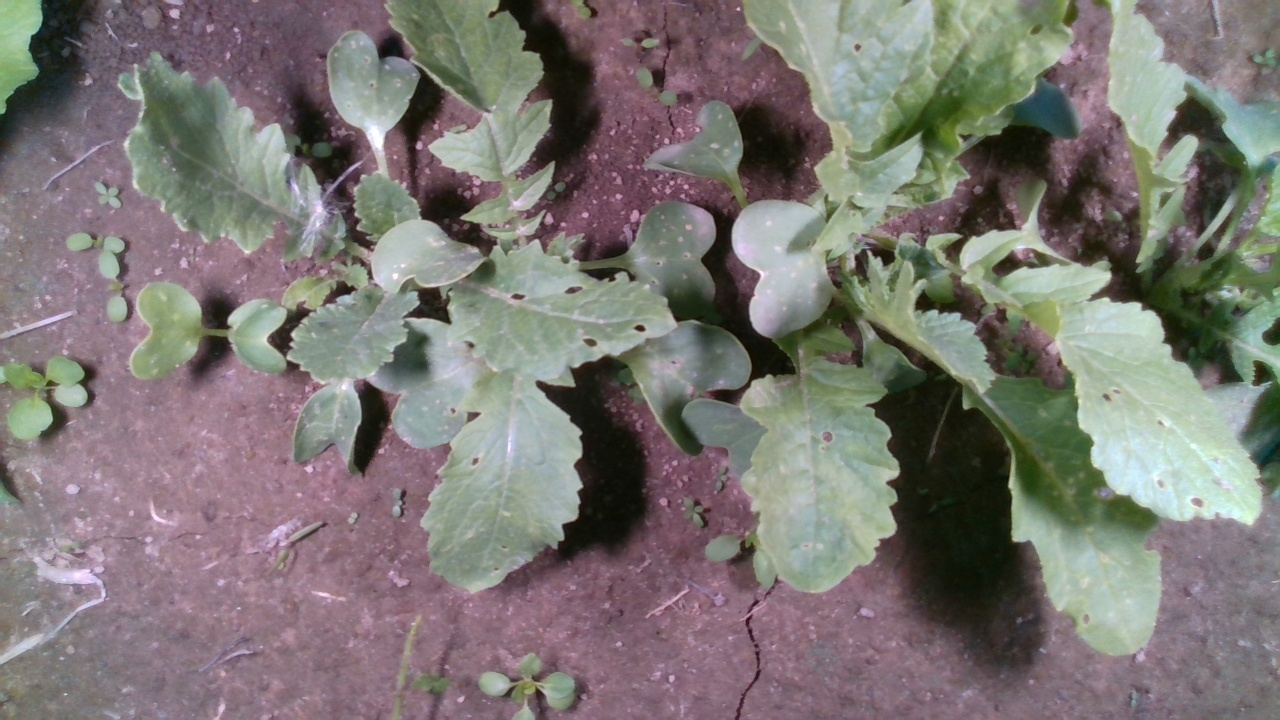weed: (635, 65, 679, 108), (91, 180, 123, 211), (681, 496, 707, 529), (616, 36, 661, 48), (390, 486, 402, 519), (347, 510, 359, 527)
